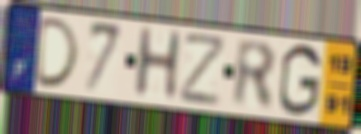7: (85, 18, 125, 97)
D: (32, 15, 82, 90)
G: (277, 41, 324, 119)
H: (131, 24, 185, 100)
R: (231, 36, 278, 114)
Z: (179, 33, 229, 108)
